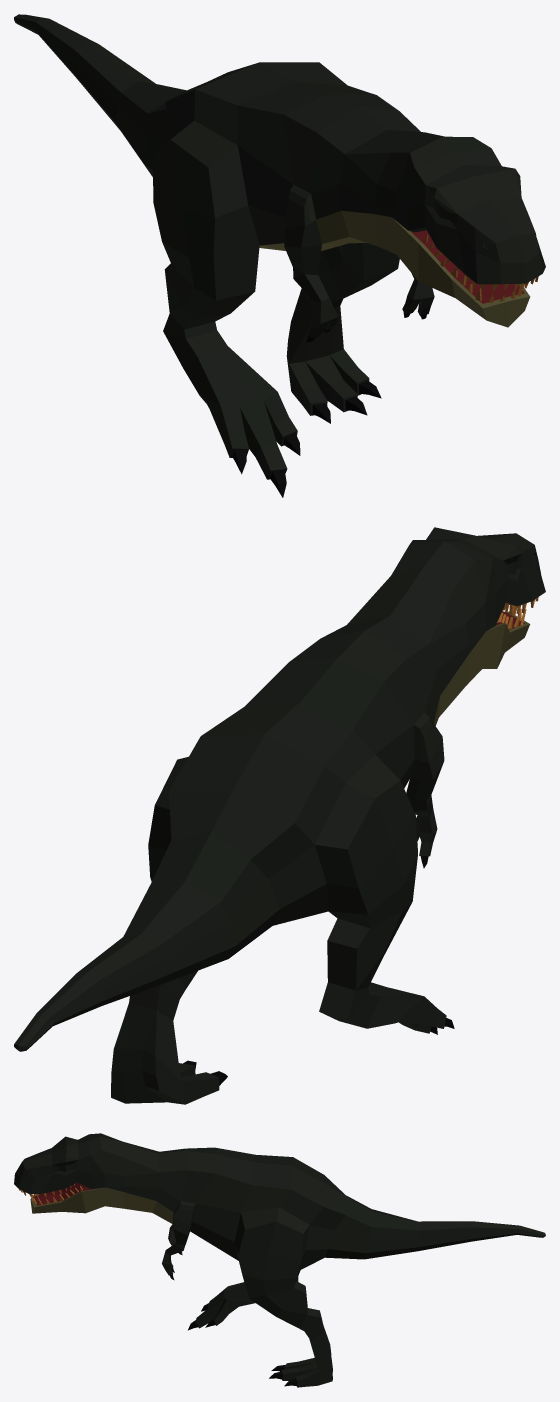
The model's file is Trex_000012.obj.
The picture shows the model from 3 angles, top to bottom: view 1: azimuth 30°, elevation 25°; view 2: azimuth 150°, elevation 25°; view 3: azimuth 270°, elevation 25°; orthographic projection. The views are drawn at different scales.
Visible parts, largest first — view 1: Trex_Cylinder; view 2: Trex_Cylinder; view 3: Trex_Cylinder.
Boxes of the visible parts, bbox=[...] form: Trex_Cylinder: bbox=[14, 14, 545, 497]; Trex_Cylinder: bbox=[14, 527, 545, 1104]; Trex_Cylinder: bbox=[14, 1133, 545, 1387].
Bounding box in the file's own units: 7.99 × 14.49 × 31.47.
